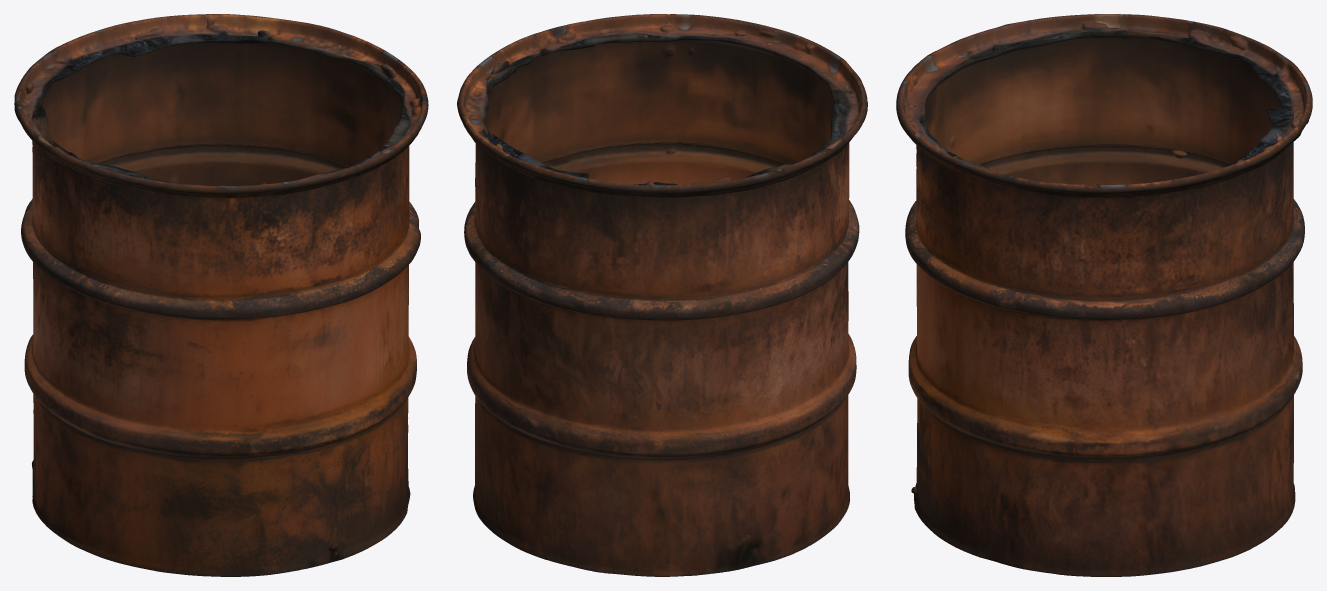
The model's file is rusted barrel 3d model.glb.
3 views of the same model, side by side, from view 1: azimuth 30°, elevation 25°; view 2: azimuth 150°, elevation 25°; view 3: azimuth 270°, elevation 25° (orthographic).
Visible parts, largest first — view 1: tripo_node_c2eb9235-6eb1-49d6-aede-4b3f625d21a9; view 2: tripo_node_c2eb9235-6eb1-49d6-aede-4b3f625d21a9; view 3: tripo_node_c2eb9235-6eb1-49d6-aede-4b3f625d21a9.
Part boxes in pixels (x1,y1,x2,y2): tripo_node_c2eb9235-6eb1-49d6-aede-4b3f625d21a9: (14,14,428,576); tripo_node_c2eb9235-6eb1-49d6-aede-4b3f625d21a9: (457,14,867,576); tripo_node_c2eb9235-6eb1-49d6-aede-4b3f625d21a9: (896,14,1312,576).
Size of the model in its own units: 0.9319 by 1 by 0.9423.
Materials: 1 (1 with a texture image).
